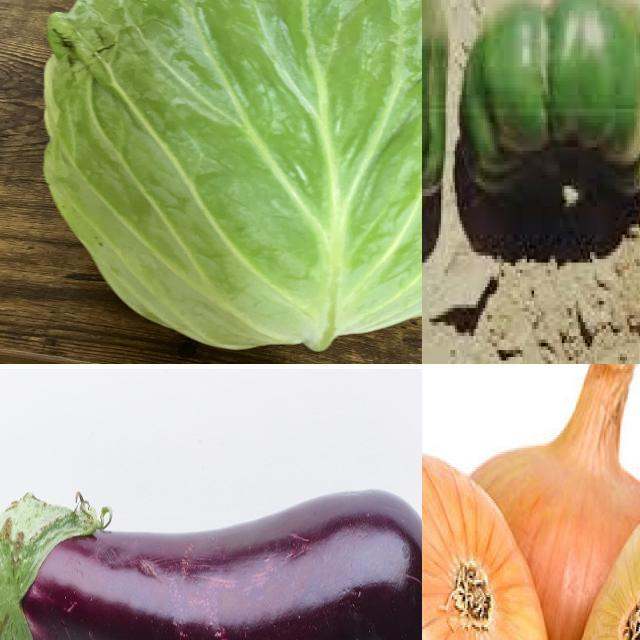bell_pepper: (455, 1, 640, 240)
cabbage: (40, 1, 423, 359)
eggplant: (1, 487, 423, 640)
onion: (474, 365, 640, 640), (423, 438, 555, 640)
